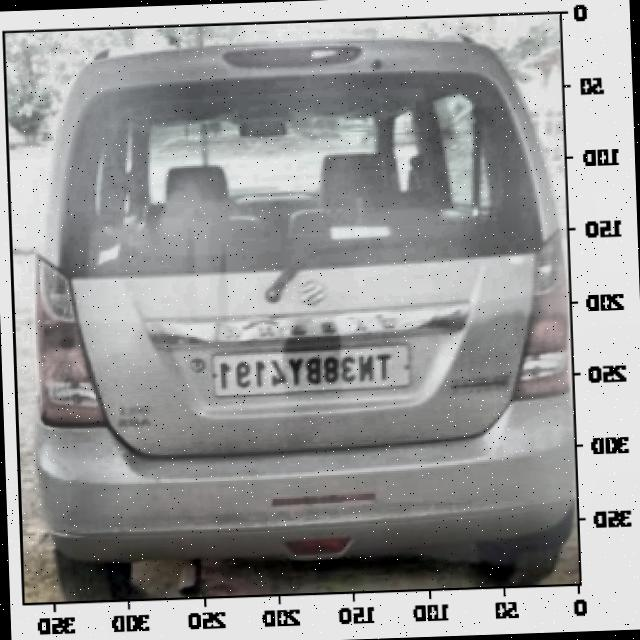license_plate: (208, 344, 404, 401)
